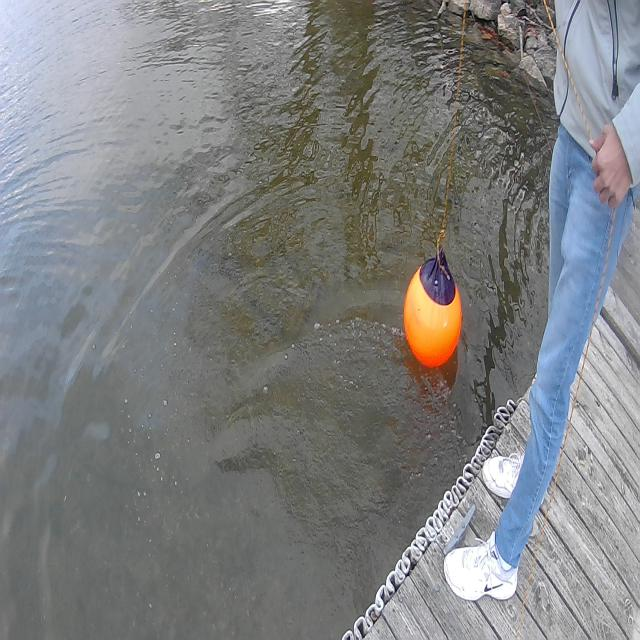Buoy: (401, 247, 465, 378)
